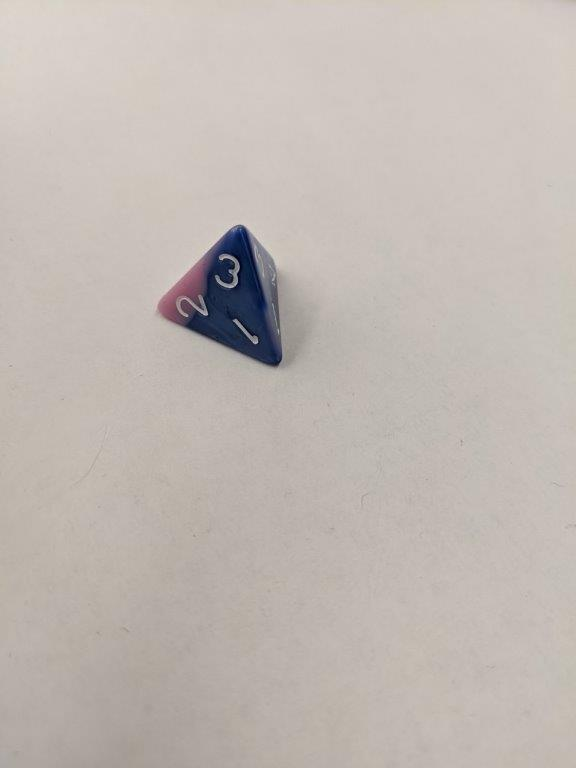d4-3: (152, 222, 287, 376)
